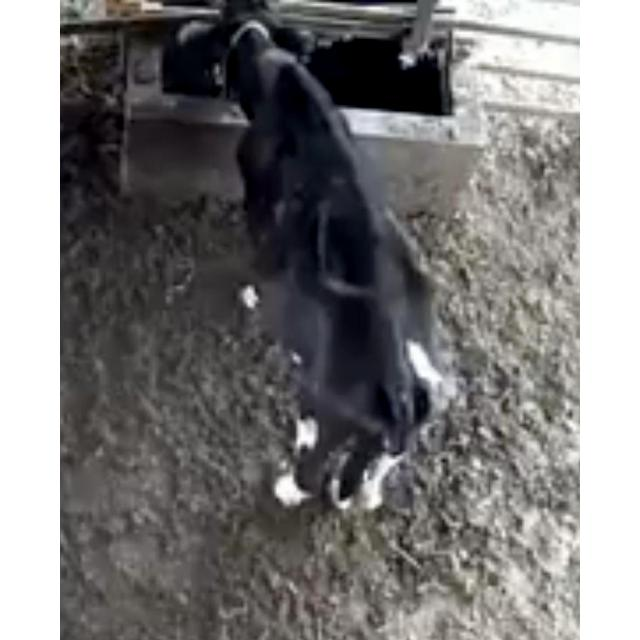drink: (176, 0, 362, 134)
